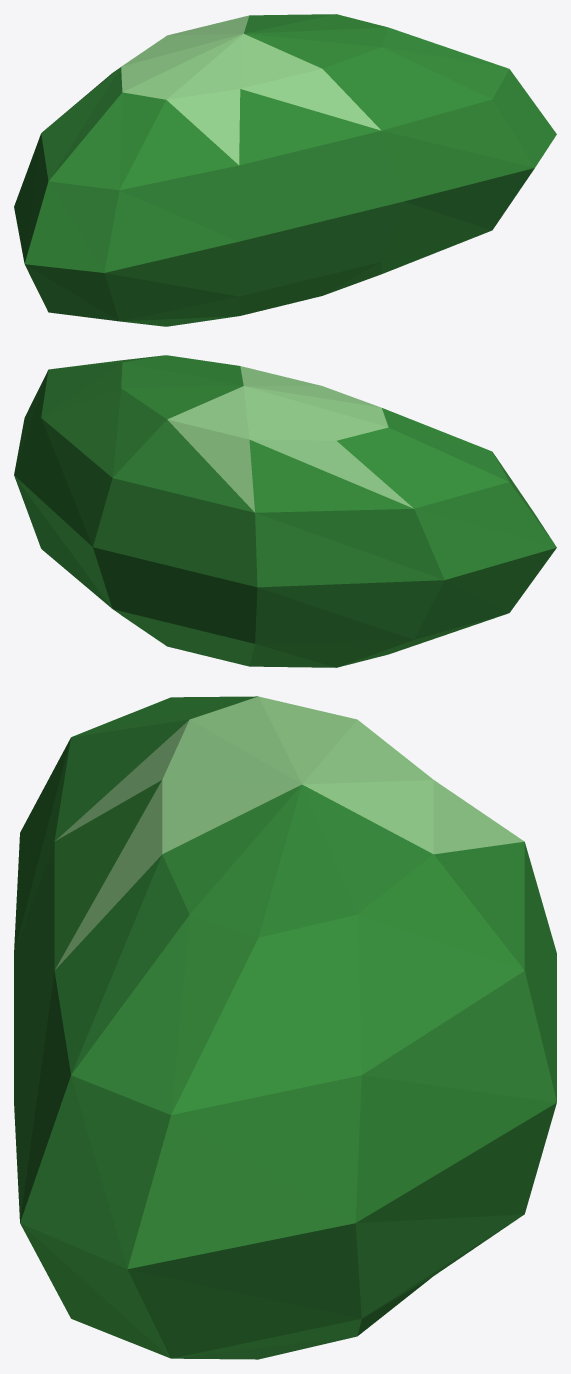
File: food-jellybean-2.glb
3 views of the same model, one above another, from view 1: azimuth 30°, elevation 25°; view 2: azimuth 150°, elevation 25°; view 3: azimuth 270°, elevation 25° (orthographic). The views are drawn at different scales.
Size of the model in its own units: 3.4 by 1.6 by 1.62.
